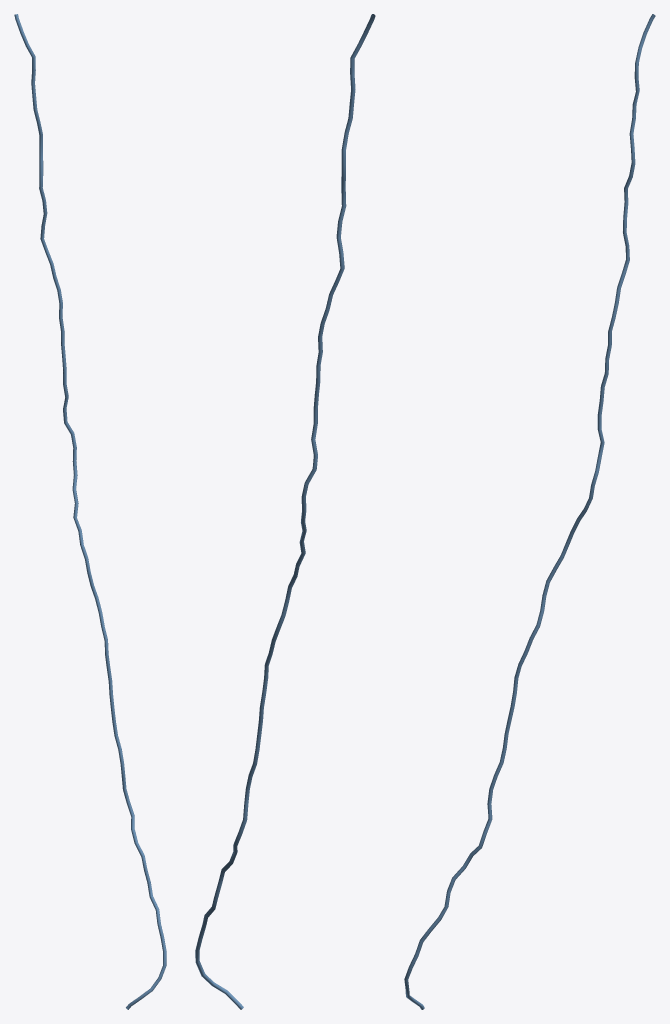
The model's file is sweep308.fbx.
3 renders of one model, left to right at view 1: azimuth 30°, elevation 25°; view 2: azimuth 210°, elevation 25°; view 3: azimuth 270°, elevation 25°, orthographic. The views are drawn at different scales.
Visible parts, largest first — view 1: sweep308; view 2: sweep308; view 3: sweep308.
Part boxes in pixels (<box>): sweep308: <box>14,14,166,1009</box>; sweep308: <box>195,14,375,1009</box>; sweep308: <box>404,14,655,1009</box>.
Bounding box in the file's own units: 0.2504 × 5.36 × 1.23.
